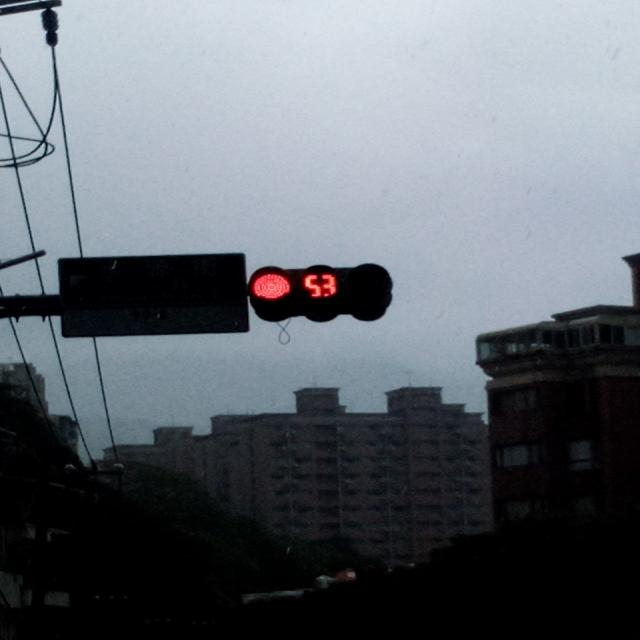red light: (251, 263, 397, 310)
